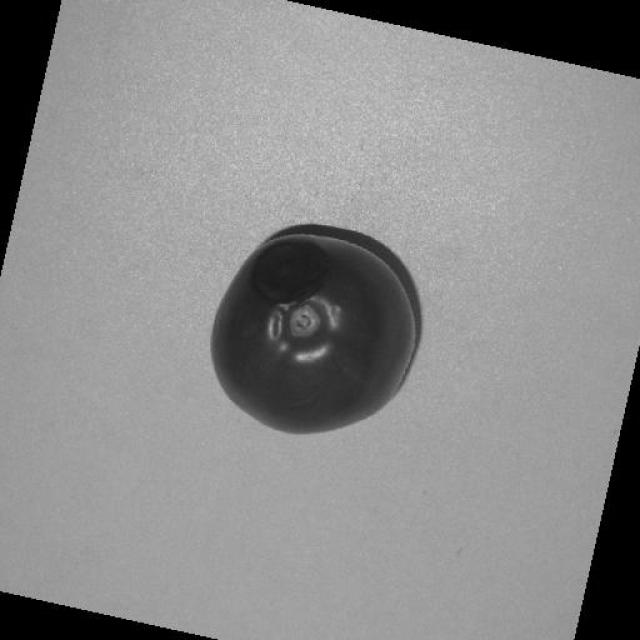Stale_tomato: (241, 212, 414, 426)
